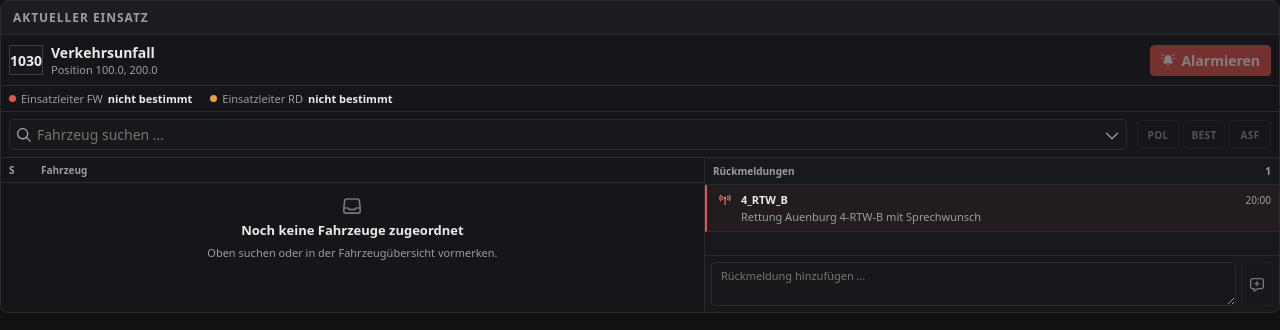
Test: Aktueller Einsatz › zeigt Entfernungen, aber weder Aktionsobjekte noch Status für versteckte Einheiten
Focus the field with placeholder "Fahrzeug suchen …" at {"x": 568, "y": 134}, box x1=37 y1=120 x2=1099 y2=149
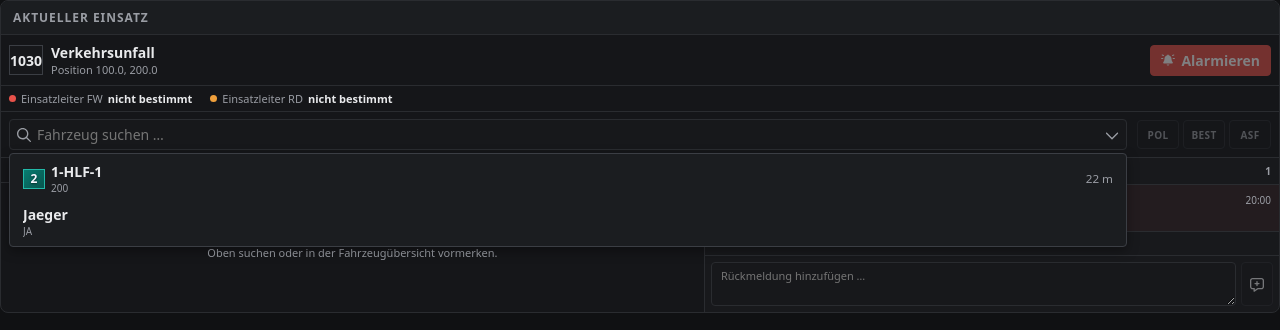
Expected: the text "22 m" is shown, x1=1086 y1=171 x2=1113 y2=186
